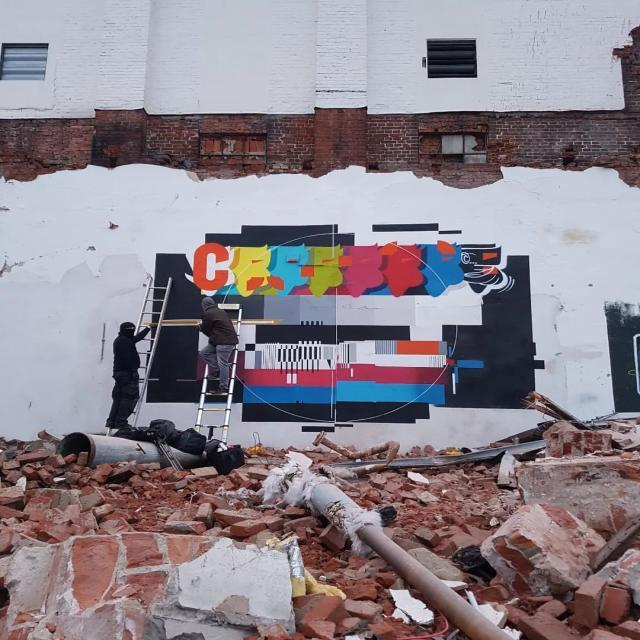-: (152, 205, 556, 426)
